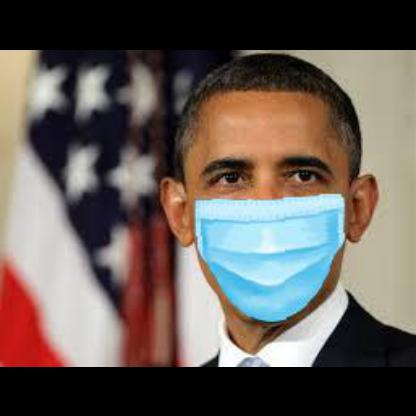Surgical Mask: (186, 101, 349, 309)
